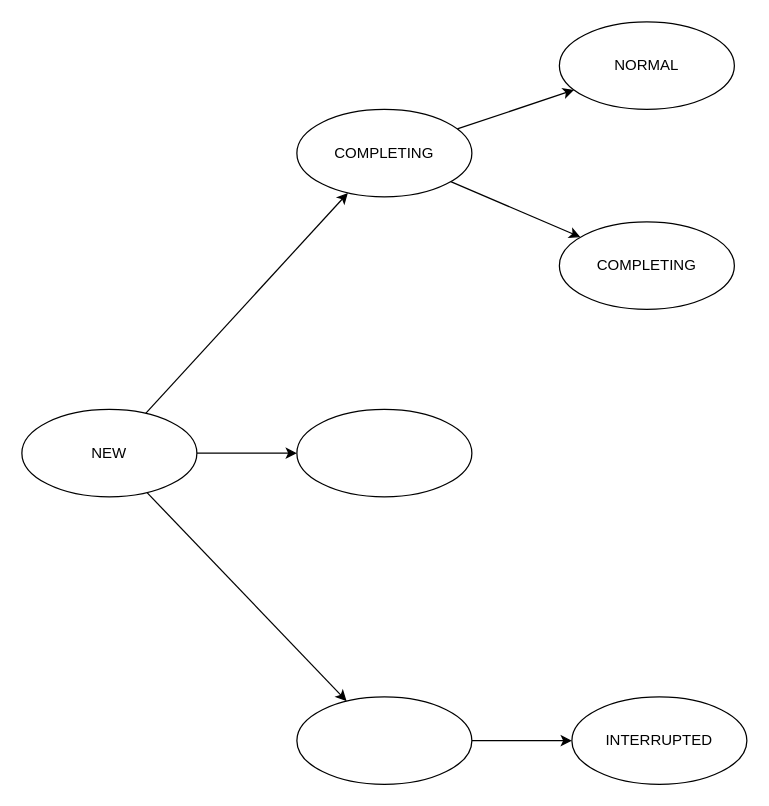
The diagram is 769 pixels wide and 806 high, and some of its shapes have lost their labels. The centre of each missing label's shape, as x and y in pixels:
"CANCELLED" goes at pixel 384 452.
"INTERRUPTING" goes at pixel 384 740.
